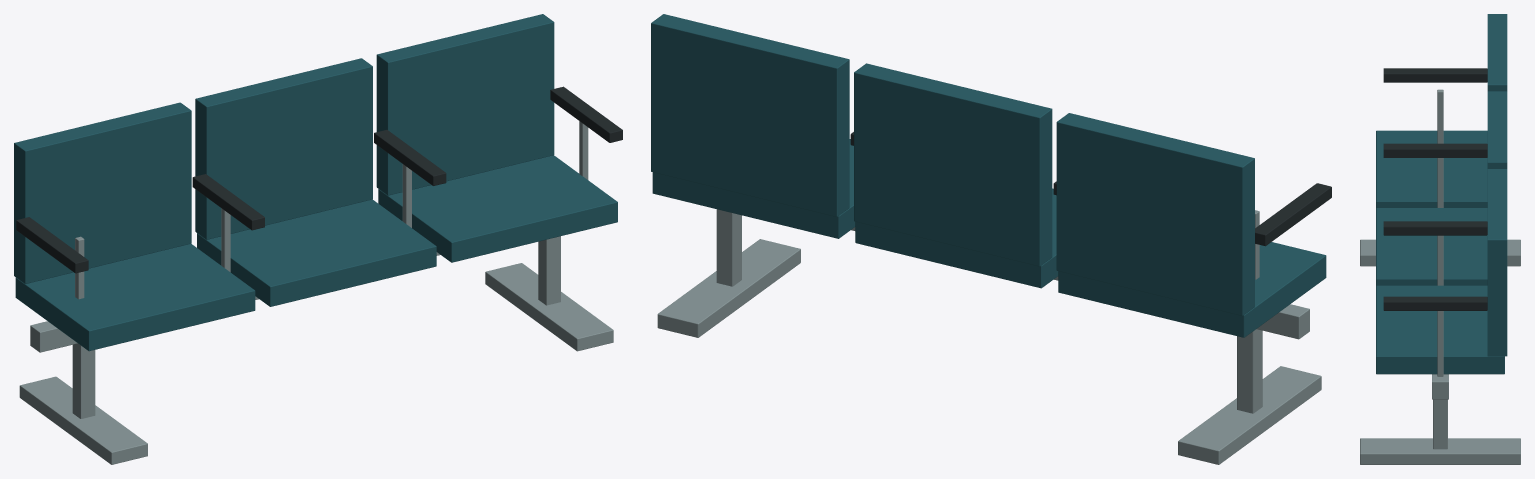
Rendered from source-edit.glb.
3 views of the same model, side by side, from view 1: azimuth 30°, elevation 25°; view 2: azimuth 150°, elevation 25°; view 3: azimuth 270°, elevation 25° (orthographic). The views are drawn at different scales.
Visible parts, largest first — view 1: Backrest_2, Backrest_0, Backrest_1, Seat_0, Seat_1, Seat_2, Foot.001, Foot, Leg, Armrest.001, Armrest.003, Armrest (+3 smaller); view 2: Backrest_1, Backrest_0, Backrest_2, Seat_0, Foot, Foot.001, Seat_2, Seat_1, Leg, Leg.001, Armrest.001, Support_Beam; view 3: Seat_2, Seat_1, Seat_0, Foot.001, Backrest_2, Backrest_0, Backrest_1, Armrest.001, Armrest.002, Armrest.003, Armrest, Foot (+6 smaller).
Part boxes in pixels (x1,y1,x2,y2): Backrest_2: (376,14,554,195); Backrest_0: (14,102,191,283); Backrest_1: (195,58,372,239); Seat_0: (15,244,255,351); Seat_1: (197,199,436,306); Seat_2: (378,155,617,262); Foot.001: (485,263,613,351); Foot: (19,376,147,464); Leg: (72,343,95,418); Armrest.001: (16,217,88,273); Armrest.003: (374,130,446,185); Armrest: (550,86,622,142); Backrest_1: (854,63,1052,266); Backrest_0: (1056,113,1254,315); Backrest_2: (651,14,849,216); Seat_0: (1058,242,1326,337); Foot: (1178,366,1321,464); Foot.001: (657,239,800,337); Seat_2: (652,139,855,238); Seat_1: (855,188,1058,288); Leg: (1237,329,1262,413); Leg.001: (716,209,741,286); Armrest.001: (1255,183,1331,246); Support_Beam: (851,227,1309,339); Seat_2: (1376,285,1504,374); Seat_1: (1376,208,1487,285); Seat_0: (1376,130,1487,207); Foot.001: (1360,438,1520,464); Backrest_2: (1487,169,1507,356); Backrest_0: (1487,14,1507,91); Backrest_1: (1487,91,1507,168); Armrest.001: (1383,68,1487,82); Armrest.002: (1383,143,1487,157); Armrest.003: (1383,221,1487,235); Armrest: (1383,296,1487,310); Foot: (1360,239,1520,266).
Size of the model in its own units: 2.3 by 1.03 by 0.65.
